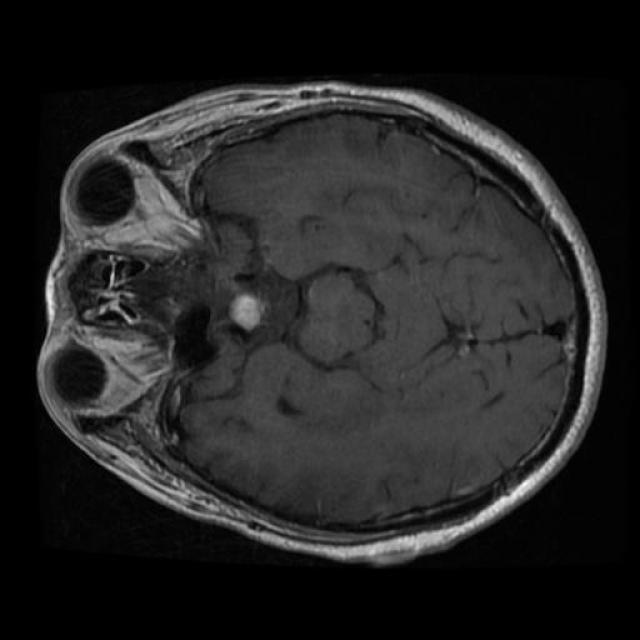Pituitary: (229, 293, 264, 332)
